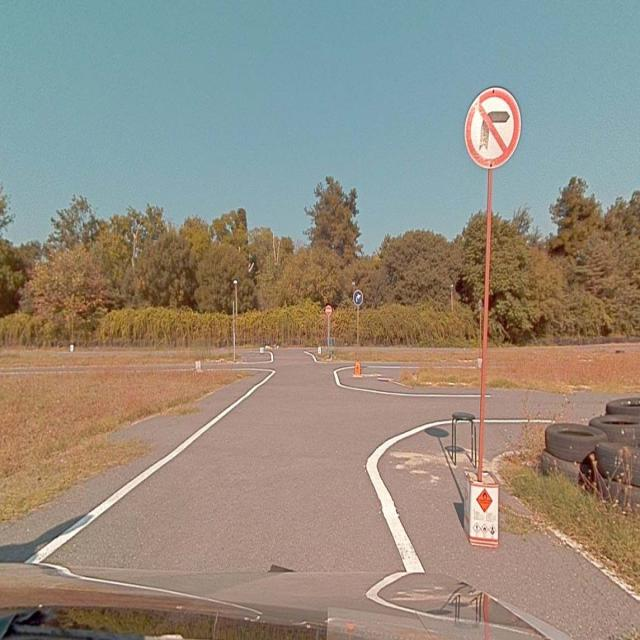girisyok: (326, 305, 332, 315)
sag: (353, 290, 363, 306)
sagadonulmez: (464, 87, 522, 168)
